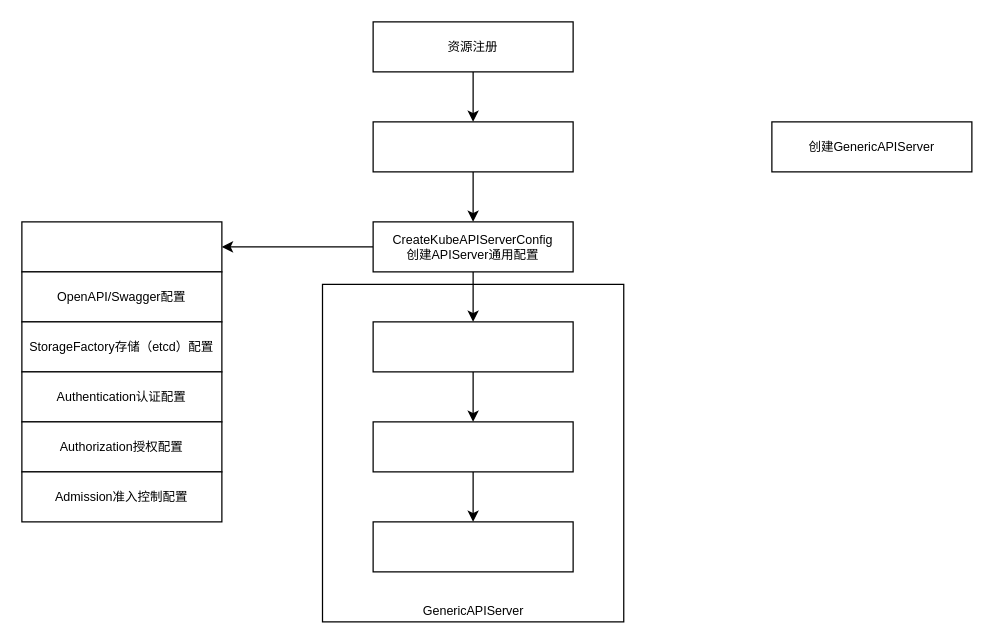
The diagram is 994 pixels wide and 644 high, and some of its shapes have lost their labels. The shapes that lost their labels are listed below. From the top down, each one's centre as x and y in pixels, then its label:
(472,146): Cobra命令参数解析 填充Options配置参数并验证
(121,246): genericConfig实例化
(472,346): createAPIEctensionsServer
(472,446): CreateKubeAPIServer
(472,546): createAggregatorServer
